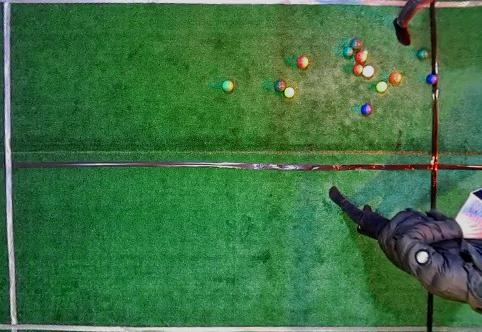blue: (361, 105, 372, 115), (427, 75, 437, 84)
green: (222, 80, 233, 92), (351, 38, 361, 49), (418, 49, 429, 59), (274, 81, 285, 91), (343, 47, 353, 56)
red: (355, 51, 367, 62), (363, 66, 374, 77), (297, 57, 308, 68), (390, 73, 402, 83), (353, 65, 362, 75)
vline: (0, 1, 20, 331), (430, 81, 481, 209), (430, 1, 481, 73), (427, 291, 482, 331)
white: (364, 50, 368, 54)
yellow: (284, 87, 294, 98), (376, 82, 387, 92)
